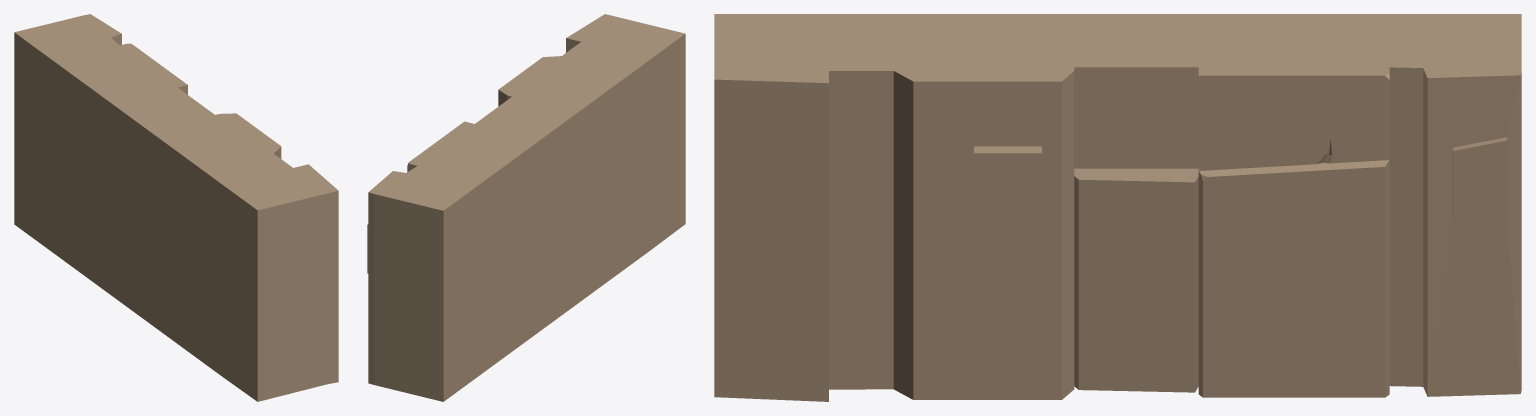
The model's file is wall5.FBX.
3 views of the same model, side by side, from view 1: azimuth 30°, elevation 25°; view 2: azimuth 150°, elevation 25°; view 3: azimuth 270°, elevation 25° (orthographic). The views are drawn at different scales.
Visible parts, largest first — view 1: wall; view 2: wall; view 3: wall.
Boxes of the visible parts, x1,y1,x2,y2 form: wall: (14,14,338,401); wall: (367,14,685,401); wall: (714,14,1521,401).
Bounding box in the file's own units: 13.12 × 26.1 × 59.93.
